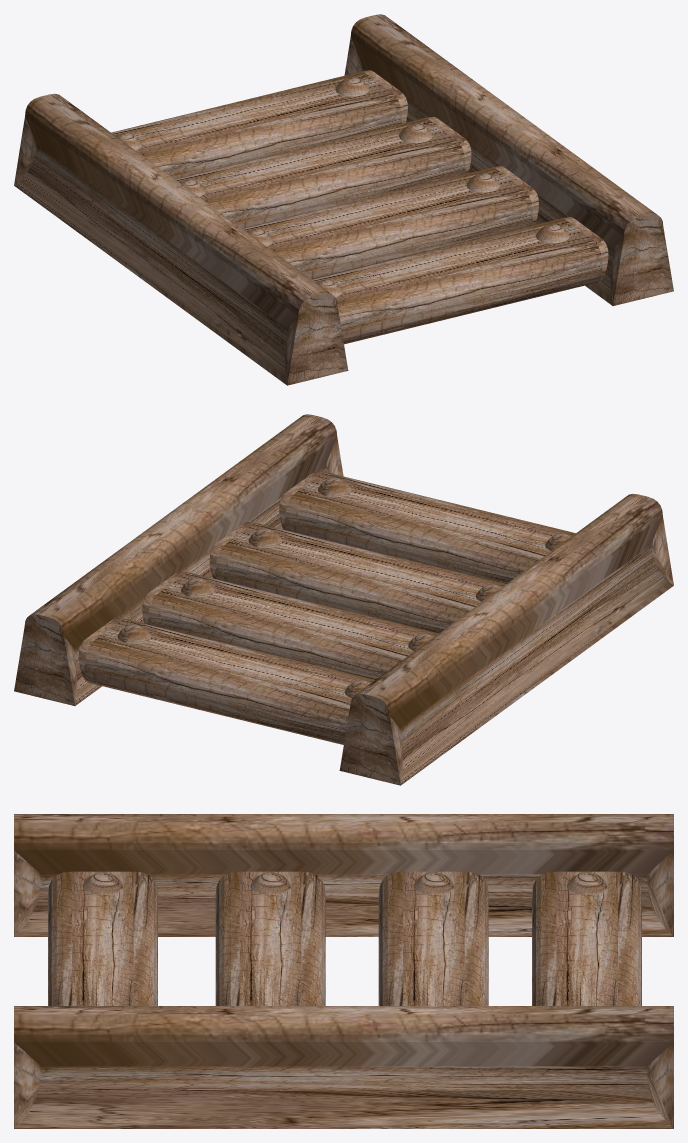
The model's file is ManganeseObject.DAE.
The picture shows the model from 3 angles, top to bottom: view 1: azimuth 30°, elevation 25°; view 2: azimuth 150°, elevation 25°; view 3: azimuth 270°, elevation 25°; orthographic projection. The views are drawn at different scales.
Parts seen in each view (by area): view 1: Box004; view 2: Box004; view 3: Box004.
Part boxes in pixels (x1,y1,x2,y2): Box004: [14, 14, 673, 385]; Box004: [14, 414, 673, 785]; Box004: [14, 814, 673, 1128].
Bounding box in the file's own units: 9.65 × 11.81 × 1.97.
Materials: 1 (1 with a texture image).
